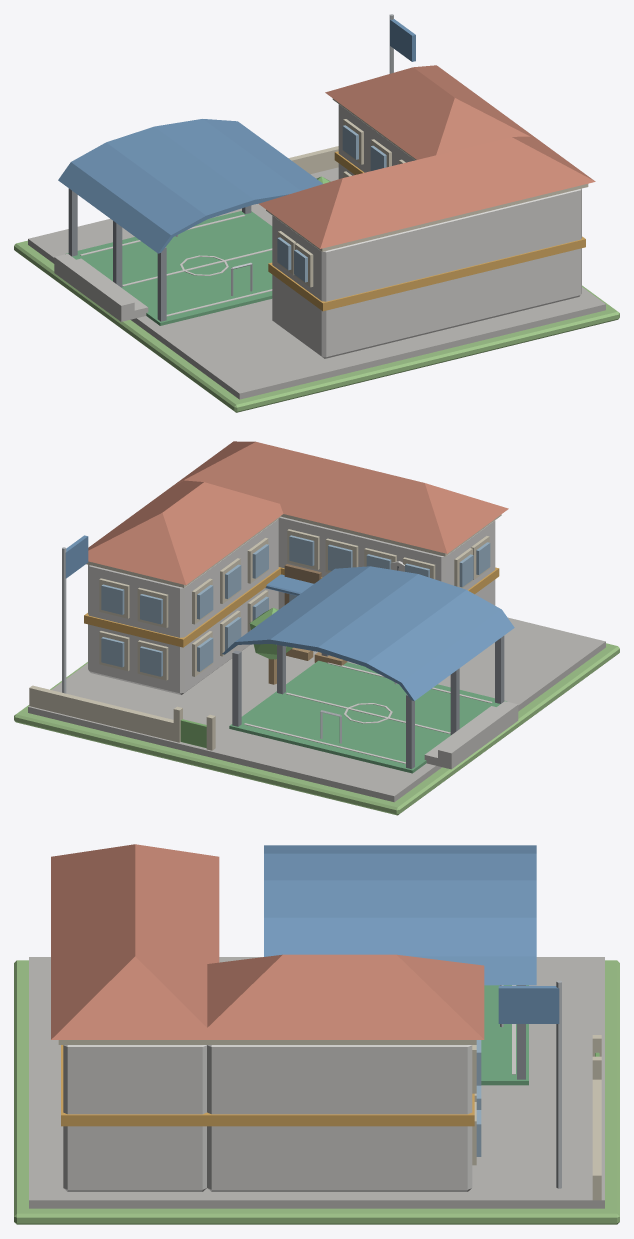
The model's file is publicos__escola.glb.
3 views of the same model, one above another, from view 1: azimuth 30°, elevation 25°; view 2: azimuth 150°, elevation 25°; view 3: azimuth 270°, elevation 25° (orthographic). The views are drawn at different scales.
Visible parts, largest first — view 1: publicos__escola; view 2: publicos__escola; view 3: publicos__escola.
Part boxes in pixels (x1=…): publicos__escola: x1=14, y1=14, x2=619, y2=412; publicos__escola: x1=14, y1=441, x2=619, y2=815; publicos__escola: x1=14, y1=844, x2=619, y2=1224.
Size of the model in its own units: 4.06 by 1.65 by 4.
